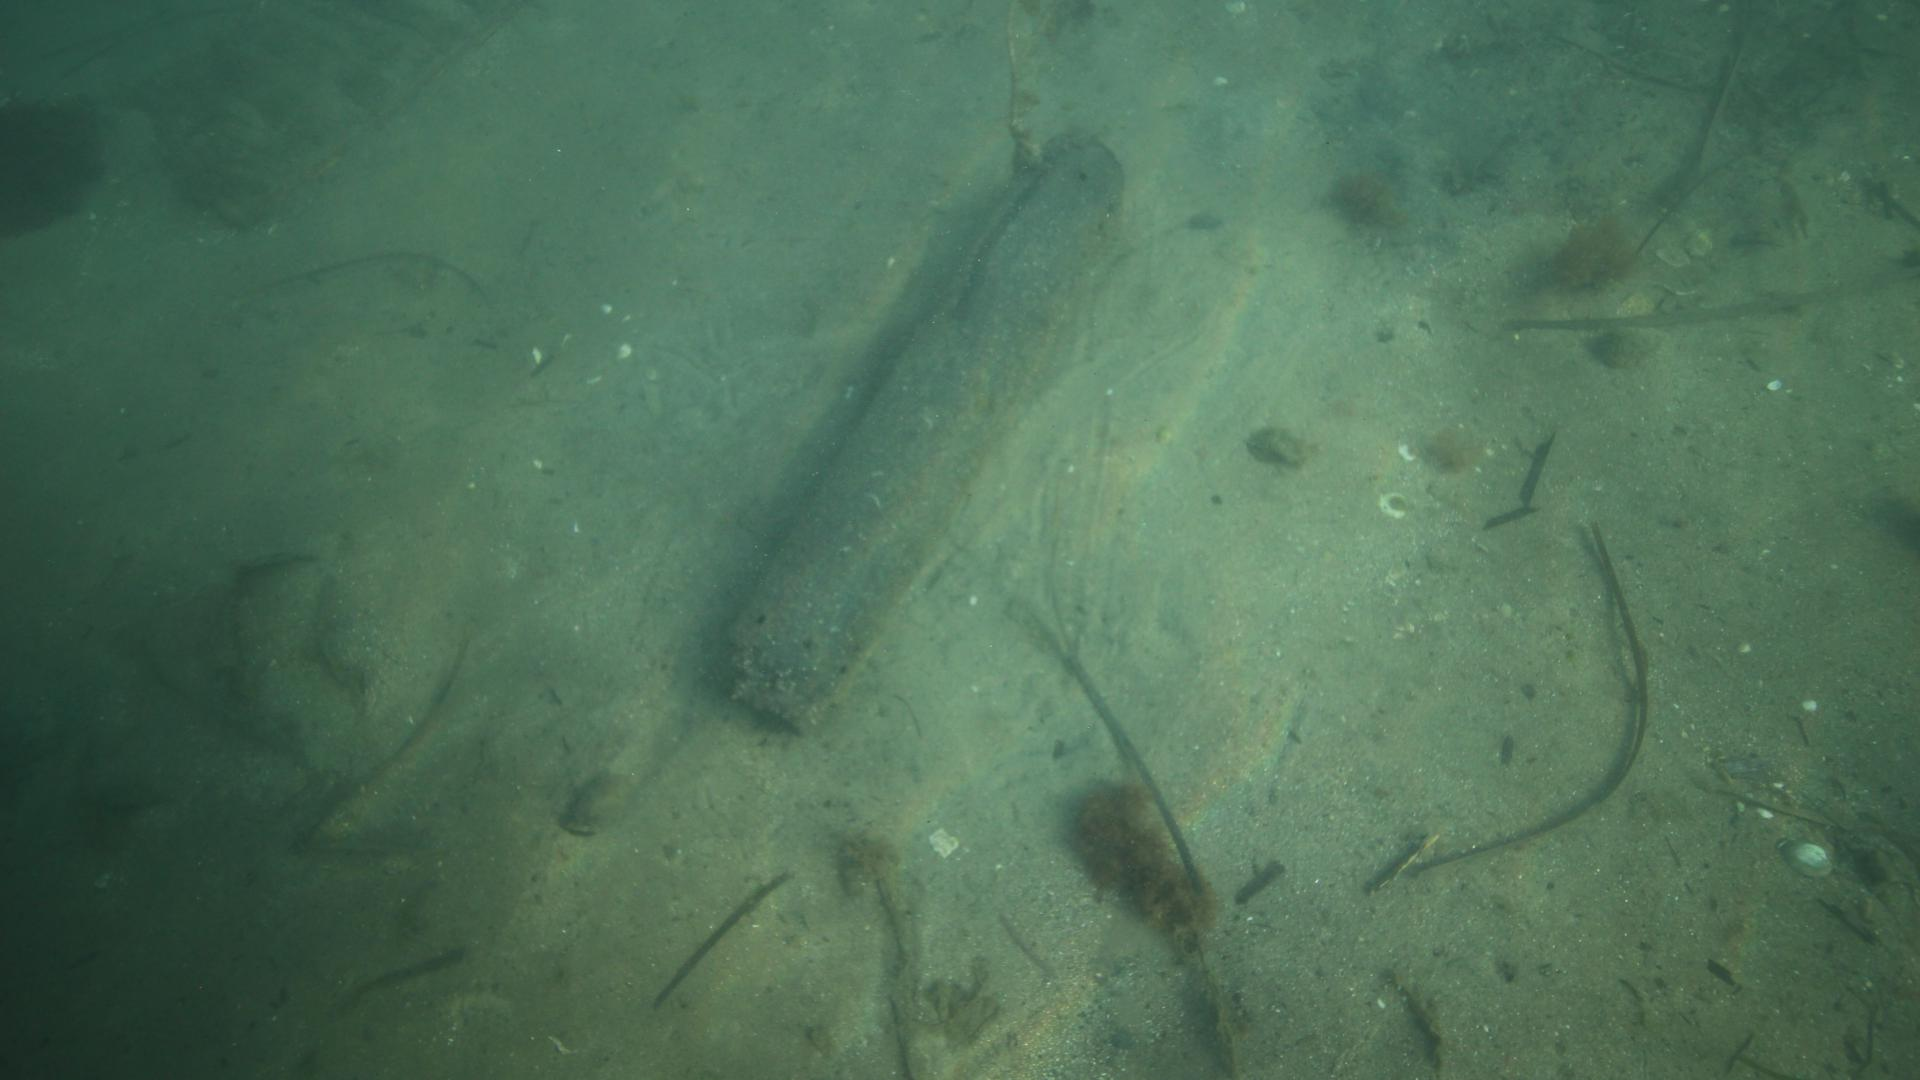bundle of ropes: (1000, 0, 1060, 132)
eel fish trap: (698, 128, 1127, 740)
